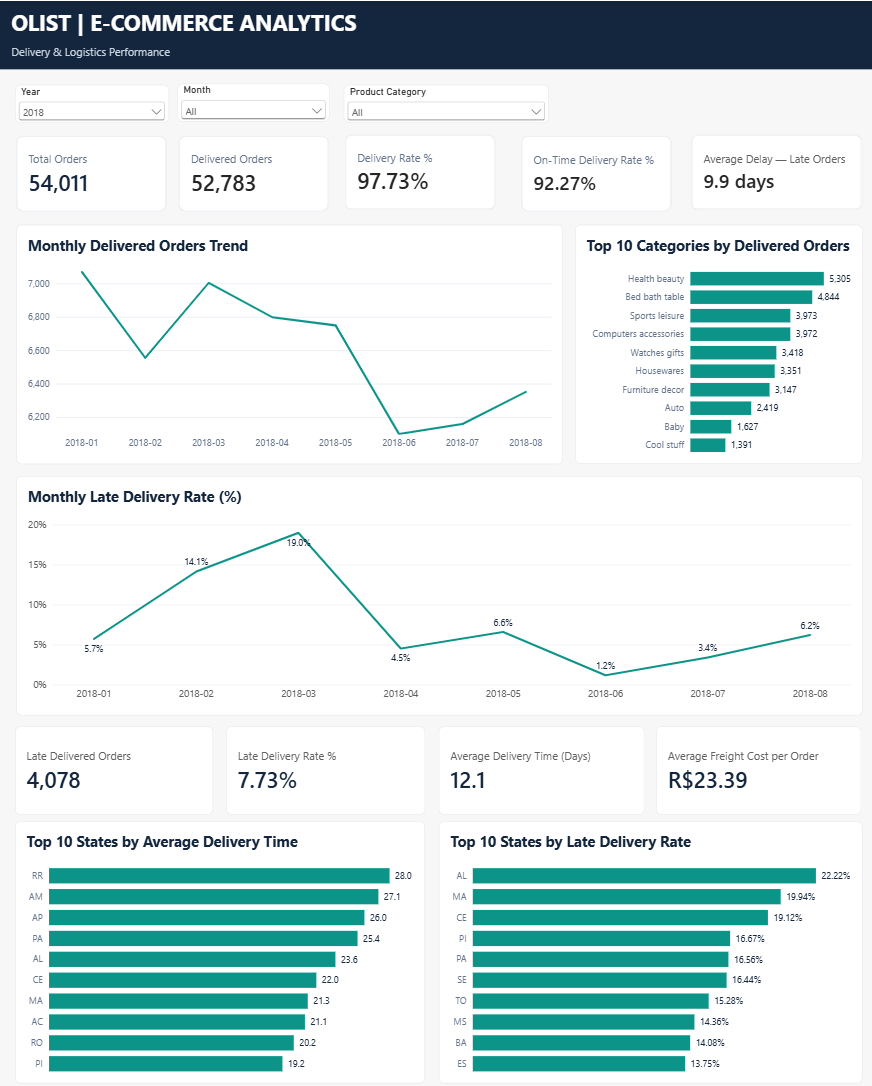

The page's visual inventory and layout, read from the dashboard file:
{"tool":"powerbi","page":{"name":"Delivery & Operations","canvas":[1280,1600],"ordinal":1},"visuals":[{"type":"shape","box":[0,0,1919.8,100],"z":0},{"type":"cardVisual","fields":{"Data":["orders.Total Orders"]},"box":[23.8,197.3,220,110],"z":1000},{"type":"cardVisual","fields":{"Data":["orders.Delivered Orders"]},"box":[262.1,198,220,110],"z":2000},{"type":"cardVisual","fields":{"Data":["orders.Delivery Rate %"]},"box":[504.4,196.5,220,110],"z":3000},{"type":"cardVisual","fields":{"Data":["orders.On-Time Delivery Rate %"]},"box":[762.1,198,220,110],"z":4000},{"type":"cardVisual","fields":{"Data":["orders.Average Delivery Delay (Days)"]},"box":[1010.6,196.5,250,110],"z":5000},{"type":"textbox","box":[17.3,9.9,524.7,51.9],"z":6000},{"type":"textbox","box":[17,61.7,262.3,32.4],"z":7000},{"type":"lineChart","title":"Monthly Delivered Orders Trend","fields":{"Category":["DimDate.Year-Month"],"Y":["orders.Delivered Orders"]},"box":[24.1,328.3,800,350],"z":8000},{"type":"clusteredBarChart","title":"Top 10 Categories by Delivered Orders","fields":{"Category":["Products.Category_Display"],"Y":["orders.Delivered Orders"]},"box":[842,328.3,421.1,349.8],"z":9000},{"type":"lineChart","title":"Monthly Late Delivery Rate (%)","fields":{"Category":["DimDate.Year-Month"],"Y":["orders.Late Delivery Rate %"]},"box":[23.3,695,1238.7,350],"z":10000},{"type":"cardVisual","fields":{"Data":["orders.Late Delivered Orders"]},"box":[21.7,1060,290,130],"z":11000},{"type":"cardVisual","fields":{"Data":["orders.Late Delivery Rate %"]},"box":[331.2,1060,291.2,130],"z":12000},{"type":"cardVisual","title":"bbgf","fields":{"Data":["Order_Items.Average Freight Cost per Order"]},"box":[960,1060,300,130],"z":13000},{"type":"cardVisual","fields":{"Data":["orders.Average Delivery Time (Days)"]},"box":[642.5,1060,301.2,130],"z":14000},{"type":"slicer","fields":{"Values":["DimDate.Year"]},"box":[21.7,121.7,225.3,55.6],"z":15000},{"type":"slicer","fields":{"Values":["DimDate.Month Name"]},"box":[260,121.2,222.5,56.2],"z":16000},{"type":"slicer","fields":{"Values":["Products.Category_Display"]},"box":[503.3,121.7,300,55.6],"z":17000},{"type":"clusteredBarChart","title":"Top 10 States by Average Delivery Time","fields":{"Category":["Customers.customer_state"],"Y":["orders.Average Delivery Time (Days)"]},"box":[22.5,1200,600,383.8],"z":18000},{"type":"clusteredBarChart","title":"Top 10 States by Late Delivery Rate","fields":{"Category":["Customers.customer_state"],"Y":["orders.Late Delivery Rate %"]},"box":[642.5,1200,620,383.8],"z":19000}]}

Visuals, with their boxes in screenshot pixels (x1, y1, x2, y2), scaled from the page's 1280x1600 canvas onto the 872x1086 screenshot:
shape: <bbox>0, 0, 871, 68</bbox>
cardVisual - orders.Total Orders: <bbox>16, 134, 166, 209</bbox>
cardVisual - orders.Delivered Orders: <bbox>179, 134, 328, 209</bbox>
cardVisual - orders.Delivery Rate %: <bbox>344, 133, 493, 208</bbox>
cardVisual - orders.On-Time Delivery Rate %: <bbox>519, 134, 669, 209</bbox>
cardVisual - orders.Average Delivery Delay (Days): <bbox>688, 133, 859, 208</bbox>
textbox: <bbox>12, 7, 369, 42</bbox>
textbox: <bbox>12, 42, 190, 64</bbox>
"Monthly Delivered Orders Trend" lineChart: <bbox>16, 223, 561, 460</bbox>
"Top 10 Categories by Delivered Orders" clusteredBarChart: <bbox>574, 223, 860, 460</bbox>
"Monthly Late Delivery Rate (%)" lineChart: <bbox>16, 472, 860, 709</bbox>
cardVisual - orders.Late Delivered Orders: <bbox>15, 719, 212, 808</bbox>
cardVisual - orders.Late Delivery Rate %: <bbox>226, 719, 424, 808</bbox>
"bbgf" cardVisual: <bbox>654, 719, 858, 808</bbox>
cardVisual - orders.Average Delivery Time (Days): <bbox>438, 719, 643, 808</bbox>
slicer - DimDate.Year: <bbox>15, 83, 168, 120</bbox>
slicer - DimDate.Month Name: <bbox>177, 82, 329, 120</bbox>
slicer - Products.Category_Display: <bbox>343, 83, 547, 120</bbox>
"Top 10 States by Average Delivery Time" clusteredBarChart: <bbox>15, 814, 424, 1075</bbox>
"Top 10 States by Late Delivery Rate" clusteredBarChart: <bbox>438, 814, 860, 1075</bbox>
